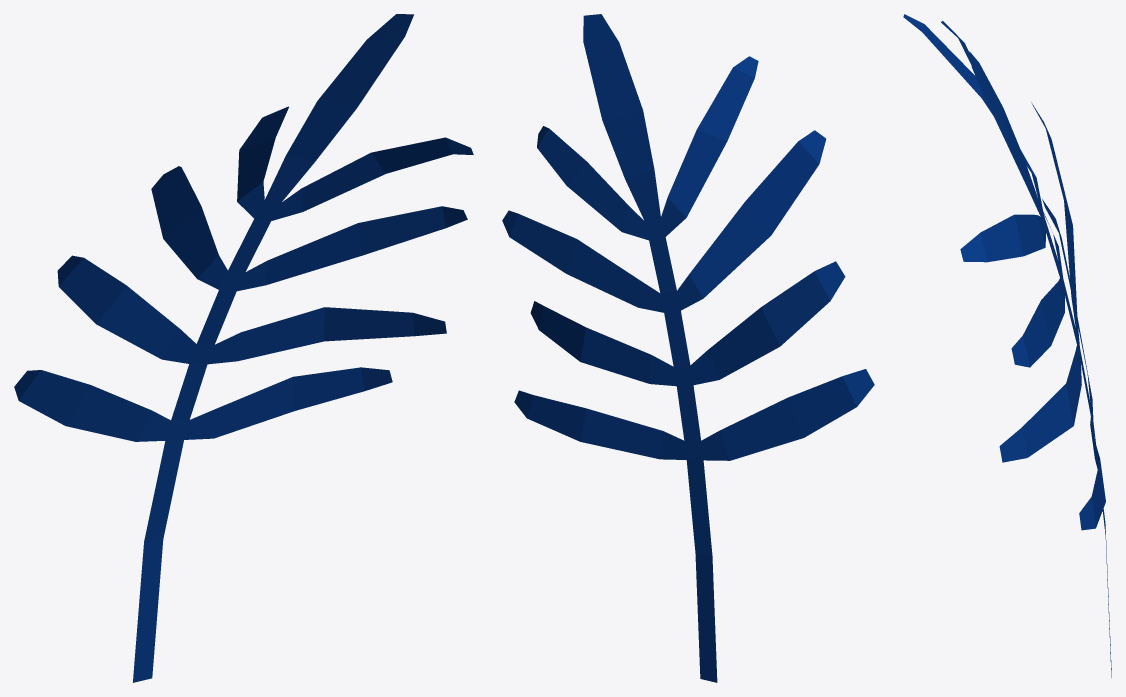
The model's file is fern_1.FBX.
3 views of the same model, side by side, from view 1: azimuth 30°, elevation 25°; view 2: azimuth 150°, elevation 25°; view 3: azimuth 270°, elevation 25° (orthographic). The views are drawn at different scales.
Visible parts, largest first — view 1: fern_v2; view 2: fern_v2; view 3: fern_v2.
Boxes of the visible parts, x1,y1,x2,y2 form: fern_v2: (14,14,473,682); fern_v2: (502,14,874,682); fern_v2: (903,14,1111,677).
Bounding box in the file's own units: 2234 × 843 × 3246.
